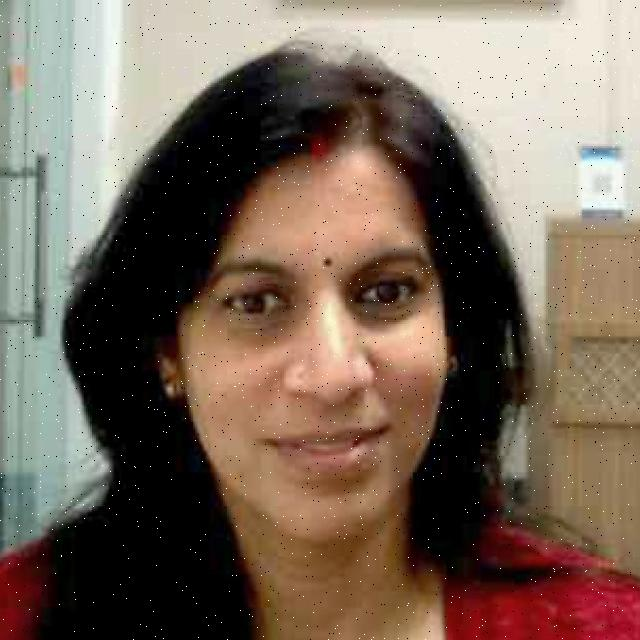puffy_eyes: (349, 300, 419, 330), (222, 311, 297, 338)
